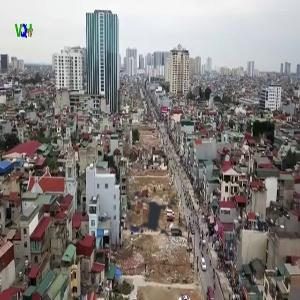drone: (92, 150, 221, 279)
